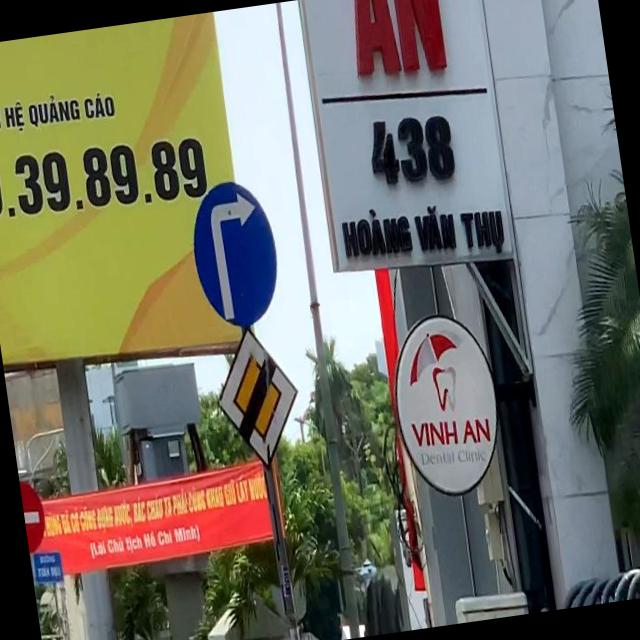R-301d: (184, 175, 286, 333)
